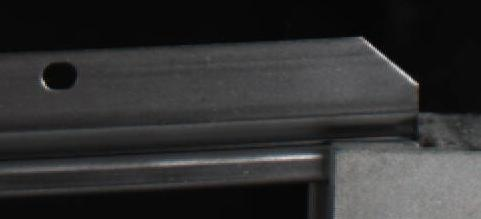cut: (291, 33, 424, 181)
holes: (40, 60, 79, 91)
